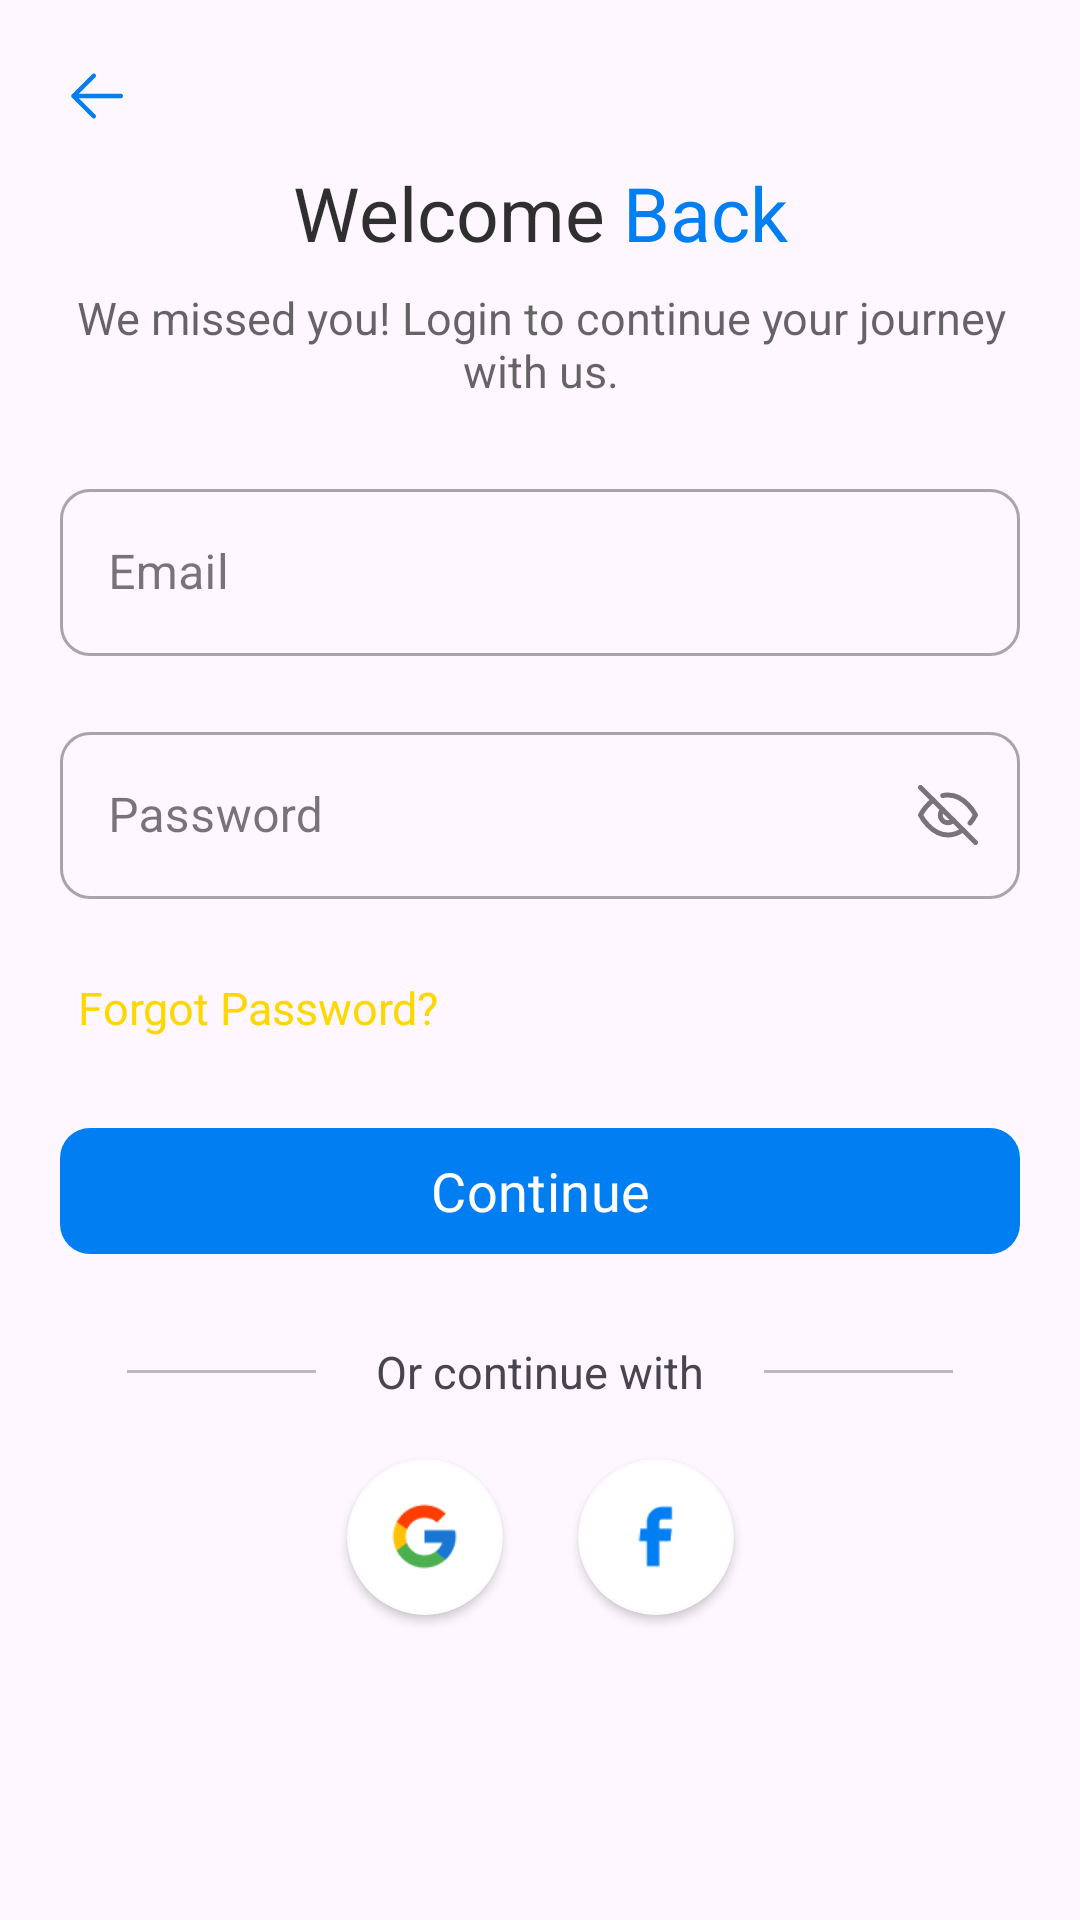

Icons on this 1080 × 1920 Android screen, each with its box as box=[x1, y1, x2, y2]:
back: box=[71, 73, 123, 119]
